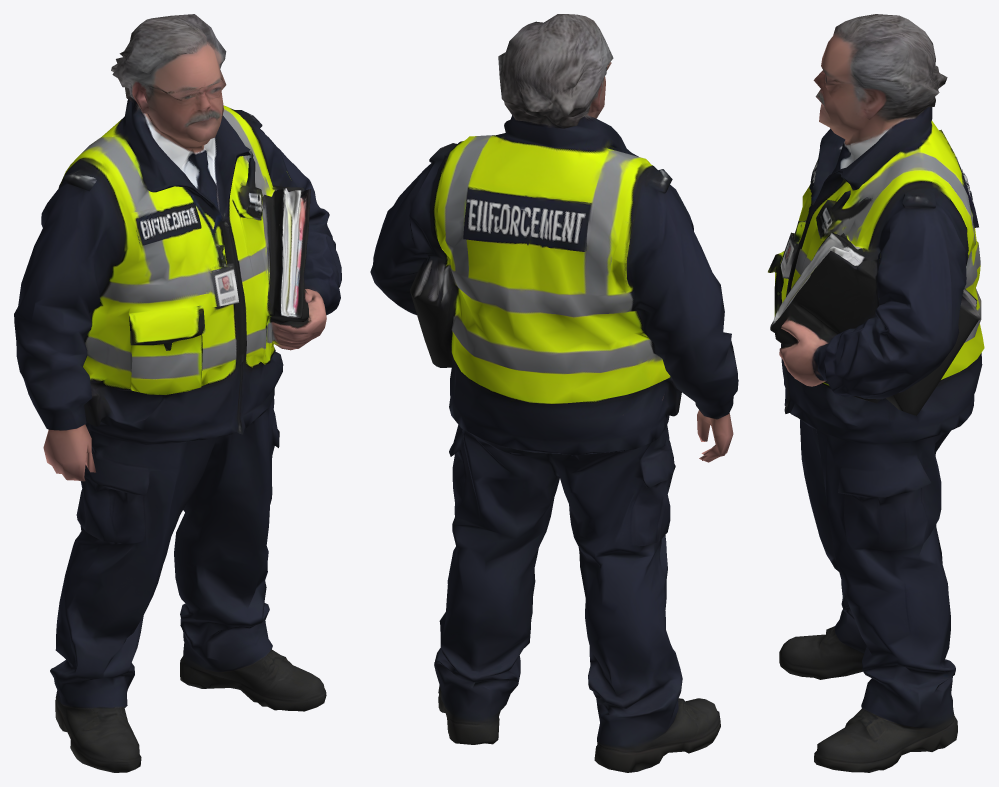
The model's file is paul.glb.
The picture shows the model from 3 angles, left to right: view 1: azimuth 30°, elevation 25°; view 2: azimuth 150°, elevation 25°; view 3: azimuth 270°, elevation 25°; orthographic projection. The views are drawn at different scales.
Visible parts, largest first — view 1: tripo_node_b5997f0f-5ad0-4562-a566-563387240e9e; view 2: tripo_node_b5997f0f-5ad0-4562-a566-563387240e9e; view 3: tripo_node_b5997f0f-5ad0-4562-a566-563387240e9e.
Part boxes in pixels (x1,y1,x2,y2): tripo_node_b5997f0f-5ad0-4562-a566-563387240e9e: (14, 14, 341, 772); tripo_node_b5997f0f-5ad0-4562-a566-563387240e9e: (370, 14, 738, 772); tripo_node_b5997f0f-5ad0-4562-a566-563387240e9e: (768, 14, 984, 772).
Size of the model in its own units: 0.4845 by 1 by 0.2826.
1 material, 1 textured.
